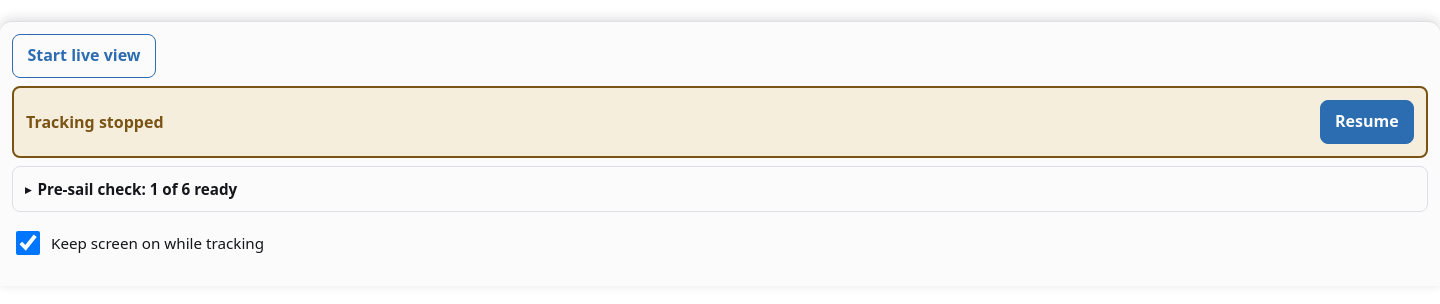
Scenario: LiveView › resume prompt (#1802) › appears after a reload with the was-tracking flag, starts no GPS until the tap, and Resume starts it
Expected: the text "Tracking stopped" is shown, left=26, top=111, right=164, bottom=133
Click the button "Resume" at (1367, 122), box left=1320, top=100, right=1414, bottom=144
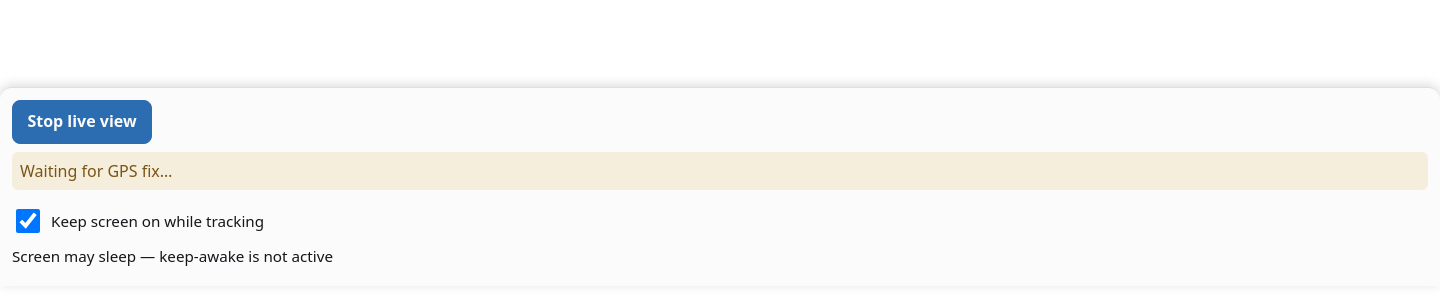
Result: the text "Tracking stopped" is gone
Result: the button "Stop live view" is shown at left=12, top=100, right=152, bottom=144
